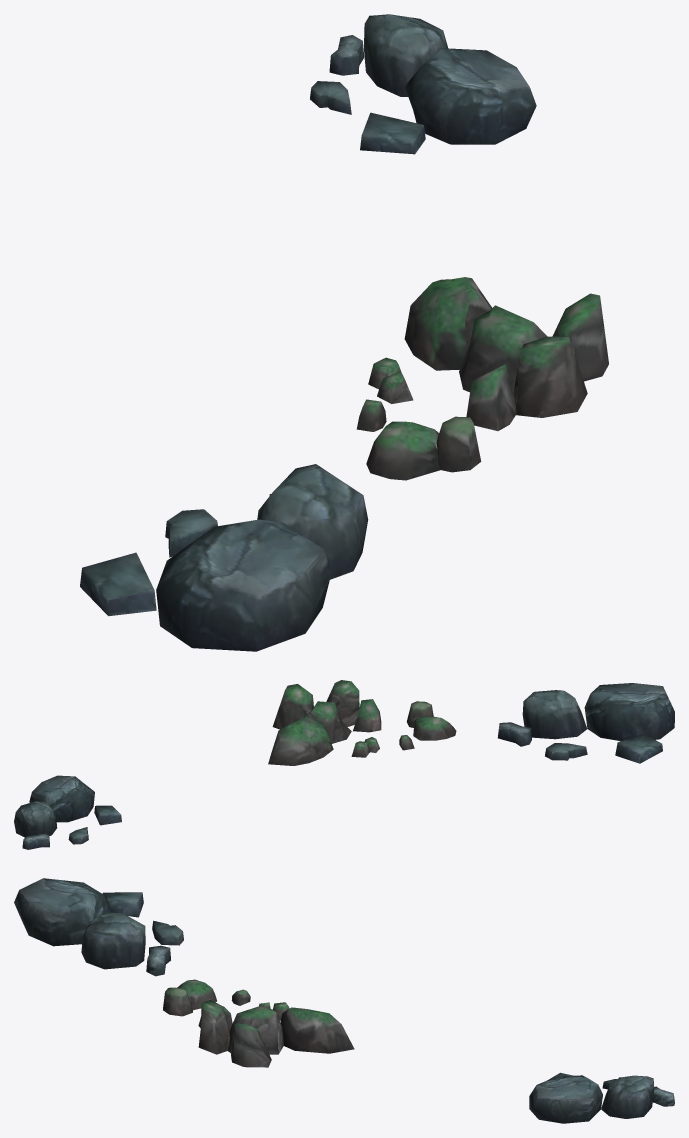
Rendered from Area_10_34.fbx.
3 renders of one model, top to bottom at view 1: azimuth 30°, elevation 25°; view 2: azimuth 150°, elevation 25°; view 3: azimuth 270°, elevation 25°, orthographic. The views are drawn at different scales.
Parts seen in each view (by area): view 1: Area_10_34; view 2: Area_10_34; view 3: Area_10_34.
Boxes of the visible parts, x1,y1,x2,y2 form: Area_10_34: (80, 14, 608, 651); Area_10_34: (14, 680, 674, 849); Area_10_34: (14, 878, 674, 1123).
Size of the model in its own units: 1948 by 171 by 2422.
